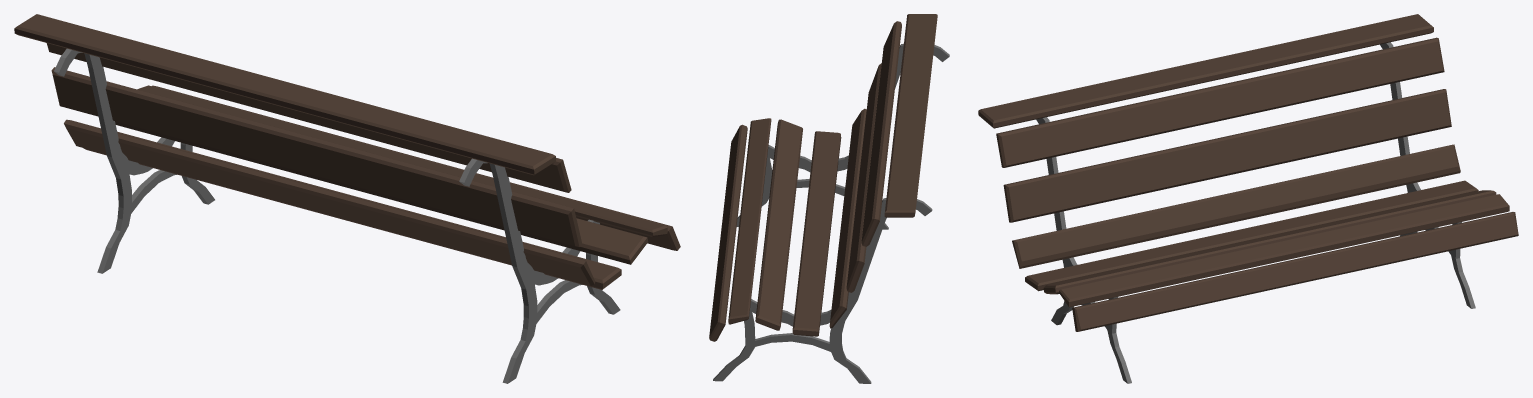
The model's file is Bench.fbx.
The picture shows the model from 3 angles, left to right: view 1: azimuth 30°, elevation 25°; view 2: azimuth 150°, elevation 25°; view 3: azimuth 270°, elevation 25°; orthographic projection. The views are drawn at different scales.
Visible parts, largest first — view 1: Bench; view 2: Bench; view 3: Bench.
Boxes of the visible parts, left/top/right/bottom form: Bench: left=14, top=14, right=680, bottom=383; Bench: left=709, top=14, right=949, bottom=383; Bench: left=978, top=14, right=1518, bottom=383.
Size of the model in its own units: 229 by 295 by 123.
